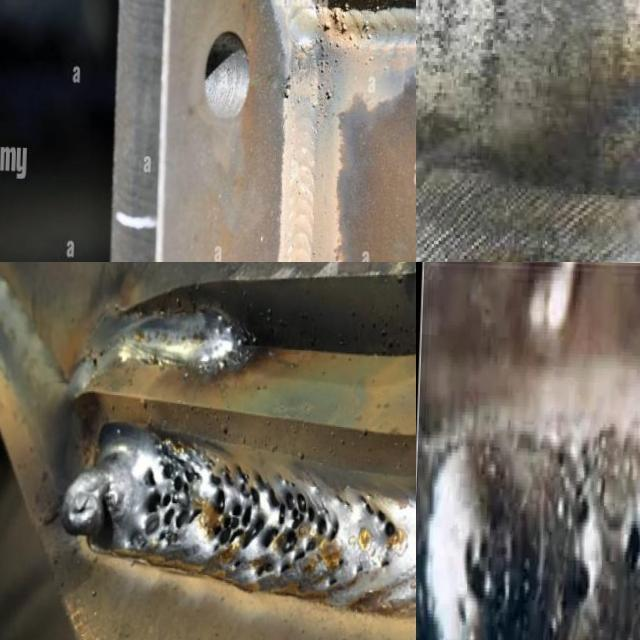defect: (205, 459, 337, 581), (136, 440, 206, 548), (450, 521, 515, 637), (550, 429, 595, 540), (355, 484, 405, 545), (315, 8, 373, 49), (619, 495, 640, 577), (572, 554, 595, 612), (314, 37, 340, 74), (329, 488, 349, 511), (374, 554, 393, 575), (327, 575, 341, 591), (325, 84, 336, 101), (282, 84, 291, 100), (355, 563, 367, 575), (336, 553, 346, 567), (310, 97, 319, 109), (316, 80, 325, 90)
